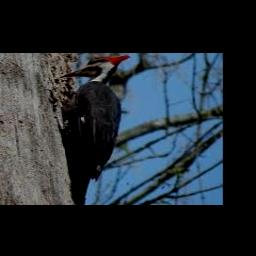Woodpecker: (58, 55, 130, 181)
